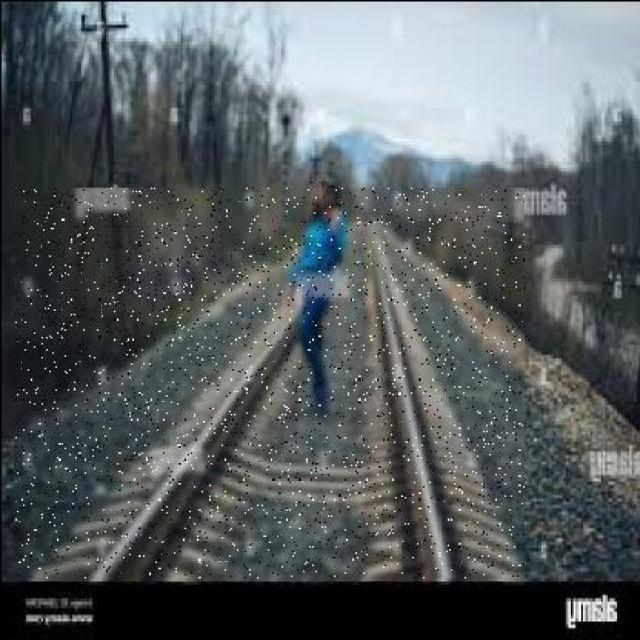danger: (290, 175, 342, 428)
rail: (14, 187, 522, 577)
